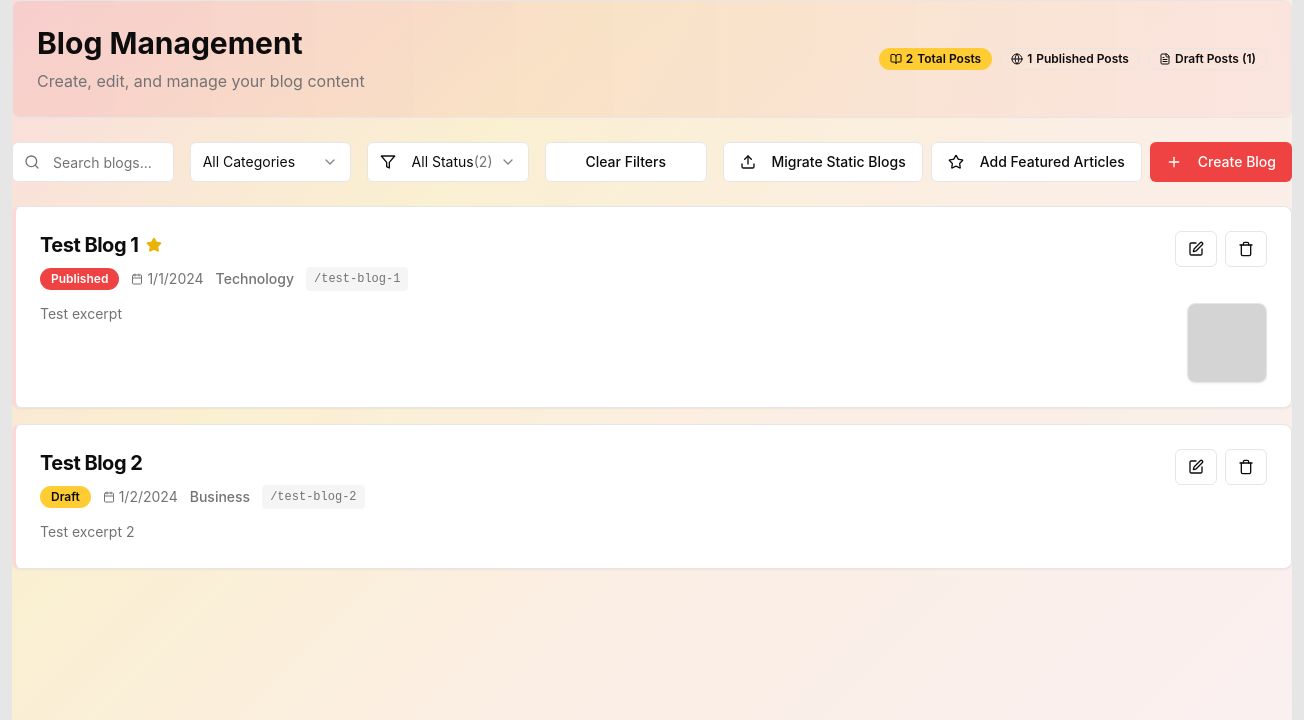
Test: BlogManager Component › filters blogs by status
Expected: the heading "Test Blog 1" is shown, [40,231,138,259]
Expected: the heading "Test Blog 2" is shown, [40,449,142,477]
Note: Find status filter dropdown
Click the dropdown labelled "All Status (2)". click: (448, 162)
box: [367,142,529,182]
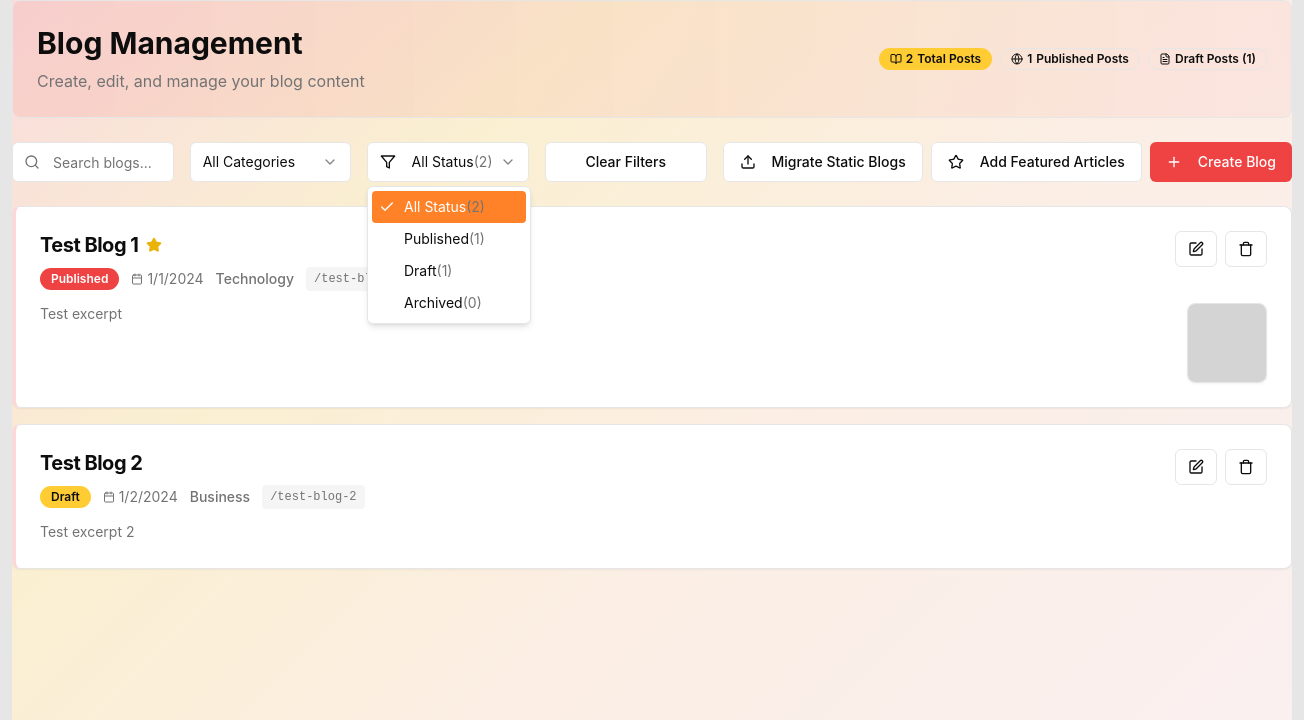
Click the text "Published". click: (436, 239)
box: [404,229,469,249]
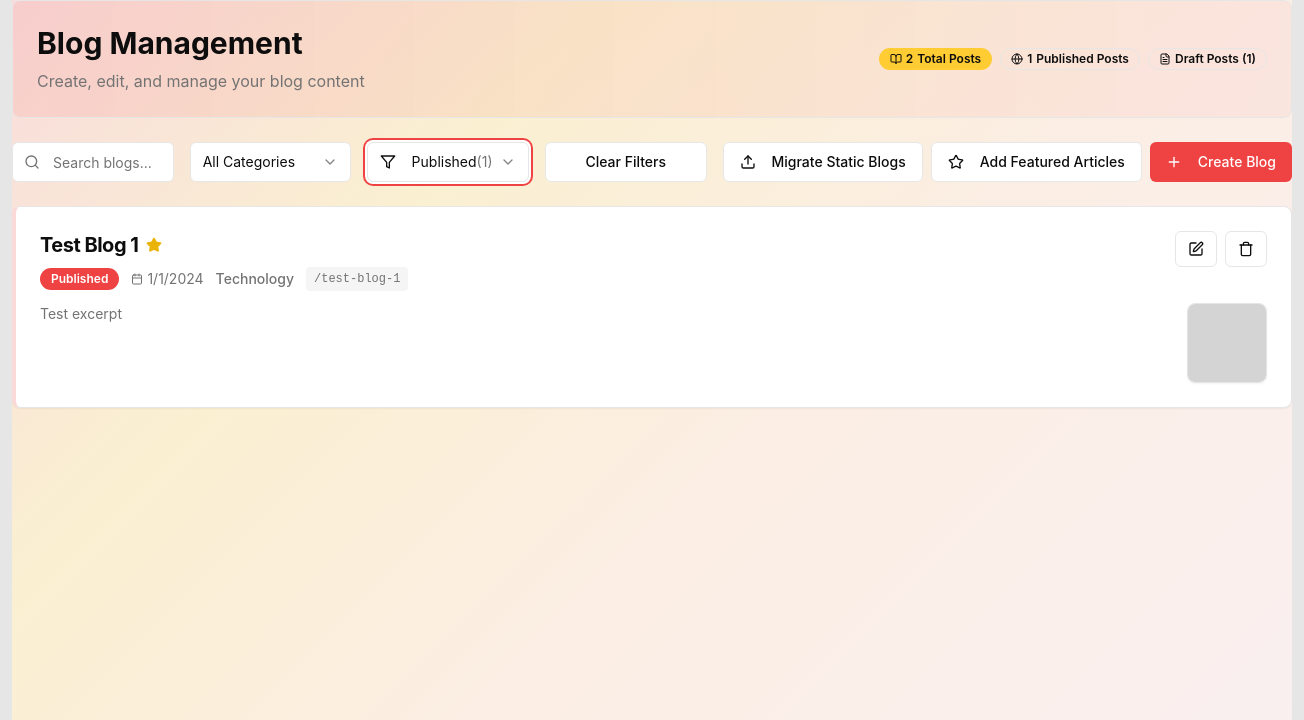
Expected: the heading "Test Blog 1" is shown, [40,231,138,259]
Expected: the heading "Test Blog 2" is gone
